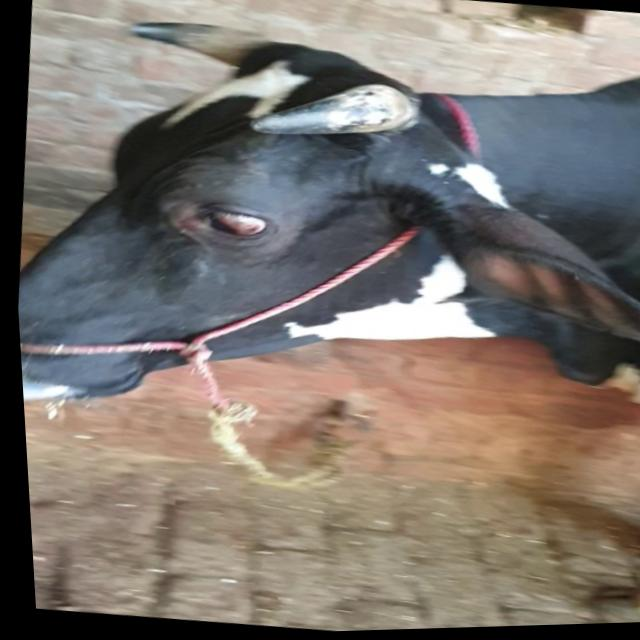cowFace: (1, 14, 456, 443)
